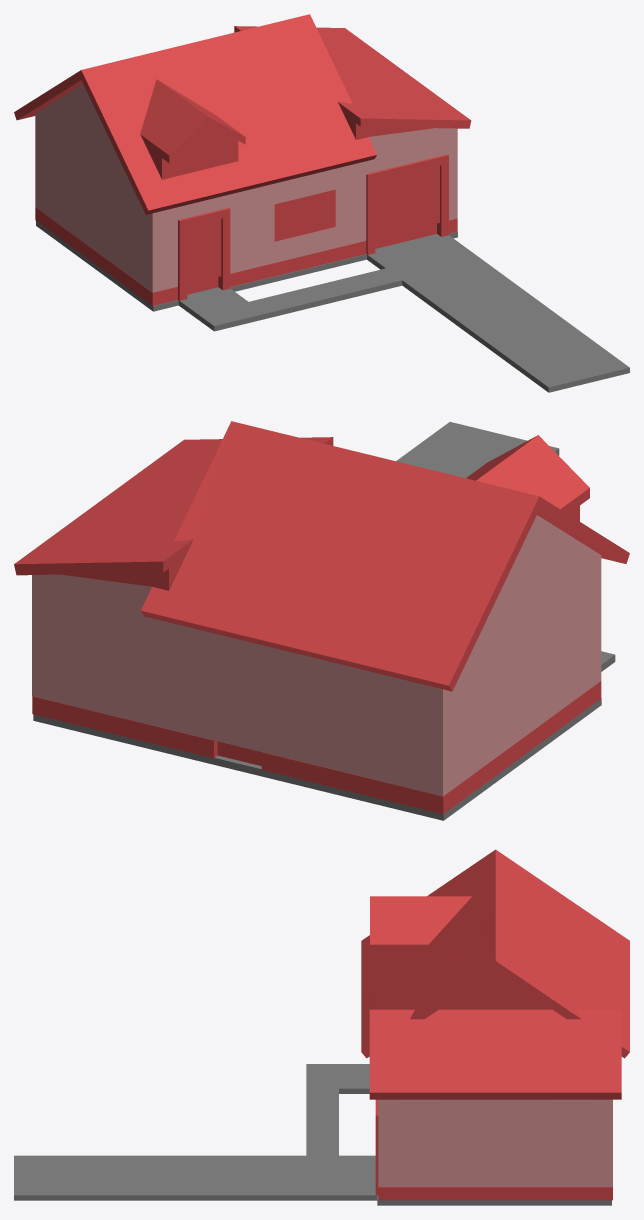
File: red_house.gltf
3 renders of one model, top to bottom at view 1: azimuth 30°, elevation 25°; view 2: azimuth 150°, elevation 25°; view 3: azimuth 270°, elevation 25°, orthographic. The views are drawn at different scales.
Bounding box in the file's own units: 1.29 × 0.7574 × 2.1.
